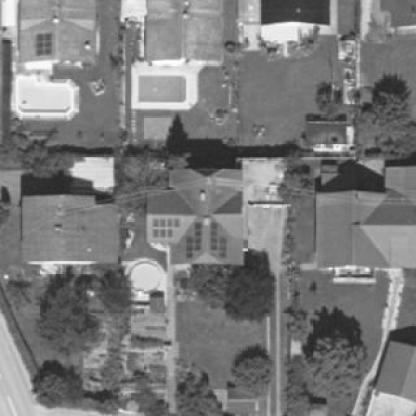solar-pv-panel: (209, 225, 227, 258), (186, 225, 202, 258), (154, 219, 180, 237), (36, 33, 53, 55)
